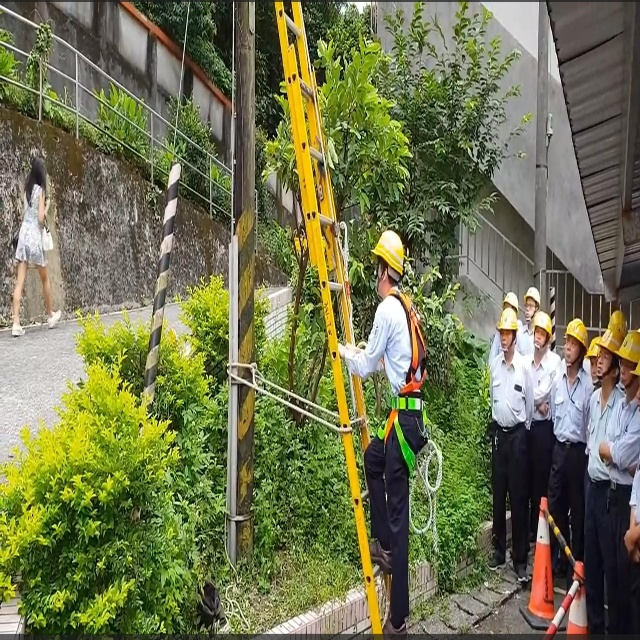Arnes_seguridad: (374, 290, 434, 488)
